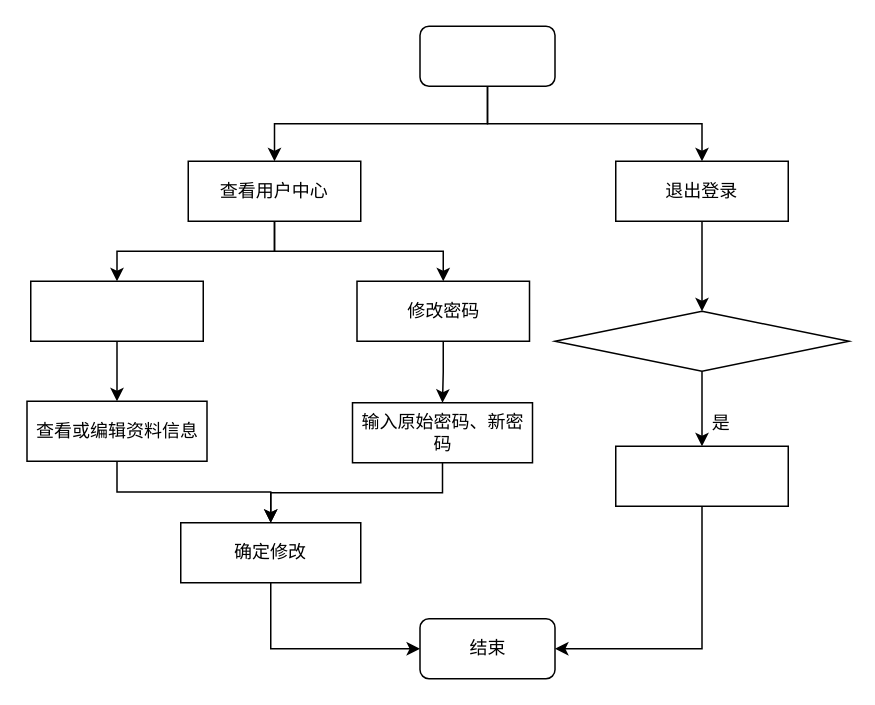
The diagram is 875 pixels wide and 705 high, and some of its shapes have lost their labels. Each missing label, with the centre of its shape:
基本资料: (116,310)
开始: (486,55)
是否确定退出登录: (701,340)
退回到登录页: (701,475)
